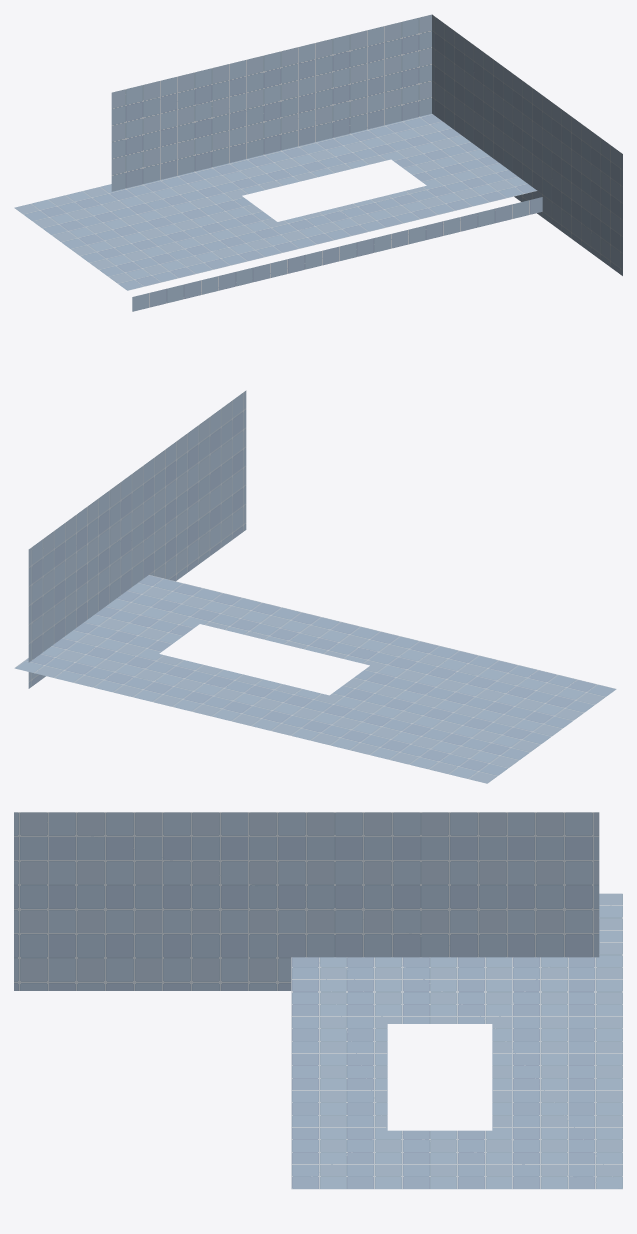
Rendered from kd_stage_135d18_4_28.glb.
The picture shows the model from 3 angles, top to bottom: view 1: azimuth 30°, elevation 25°; view 2: azimuth 150°, elevation 25°; view 3: azimuth 270°, elevation 25°; orthographic projection. The views are drawn at different scales.
Parts seen in each view (by area): view 1: kd_stage_135d18_4_28; view 2: kd_stage_135d18_4_28; view 3: kd_stage_135d18_4_28.
Part boxes in pixels (box(x1,y1,x2,y2)): kd_stage_135d18_4_28: box(14, 14, 622, 311); kd_stage_135d18_4_28: box(14, 390, 616, 783); kd_stage_135d18_4_28: box(14, 812, 622, 1189).
Size of the model in its own units: 2.01 by 0.5651 by 1.75.
1 material, 1 textured.
